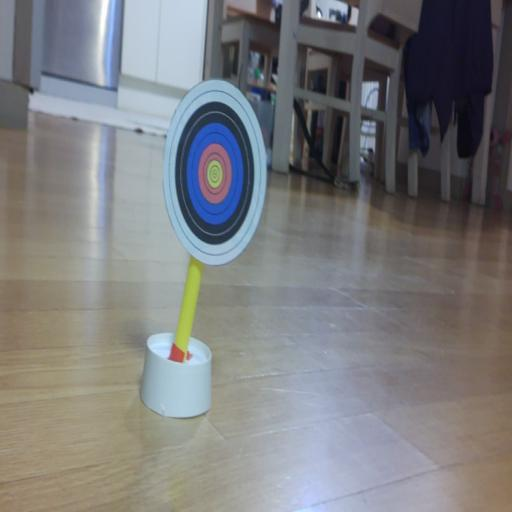target: (163, 80, 266, 265)
